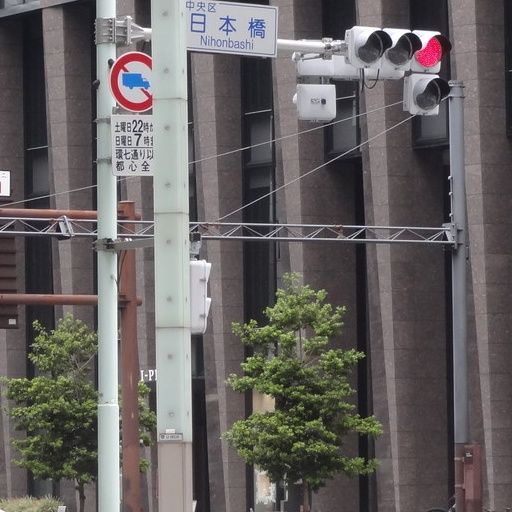Traffic_Signal_Red: (341, 17, 450, 80)
